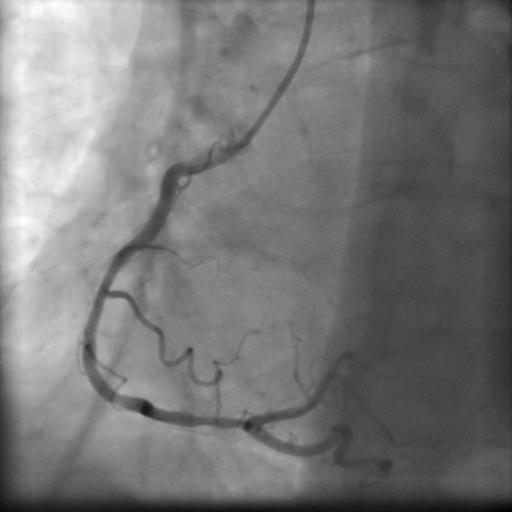Stenosis: (190, 410, 247, 438)
